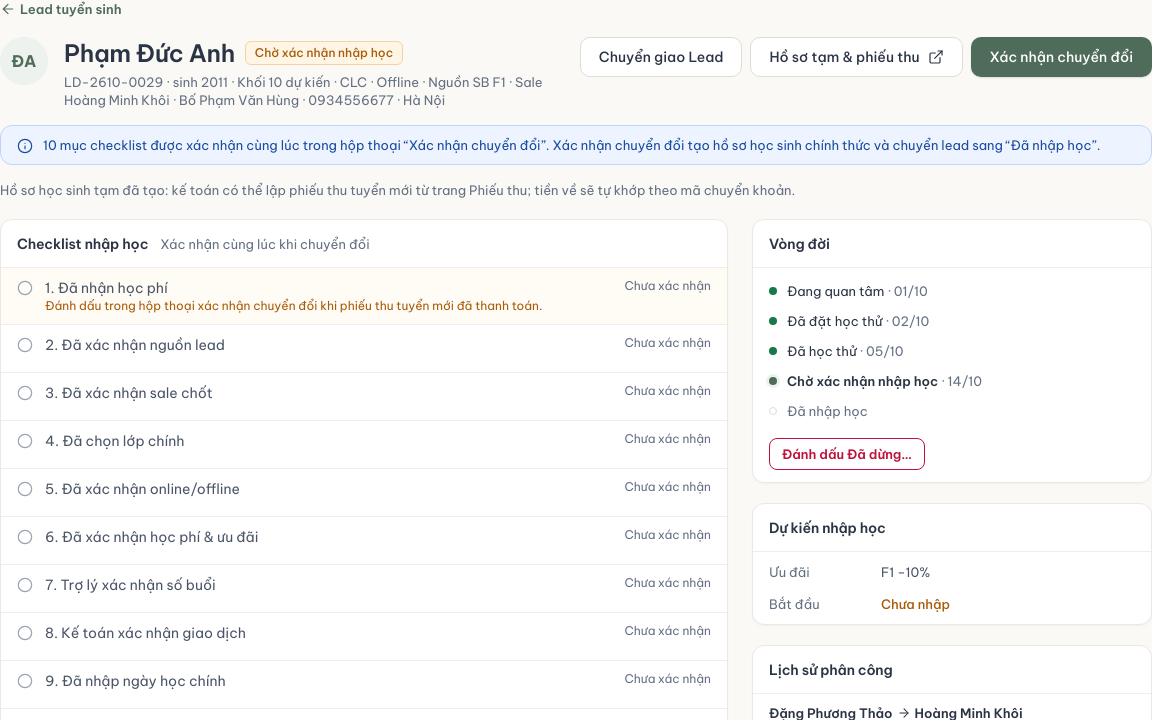
Test: CRM lead page › draws the lifecycle with the current step and puts the stop action under it as danger-outline
The width and height of the screenshot is (1152, 720).
Expected: the list item "Chờ xác nhận nhập học · 14/10" is shown, [769,372,1075,389]
Expected: the text "Đã đặt học thử" is shown, [787,313,882,329]
Click the button "Đánh dấu Đã dừng…" at coordinates (847, 454), box [769,438,925,470]
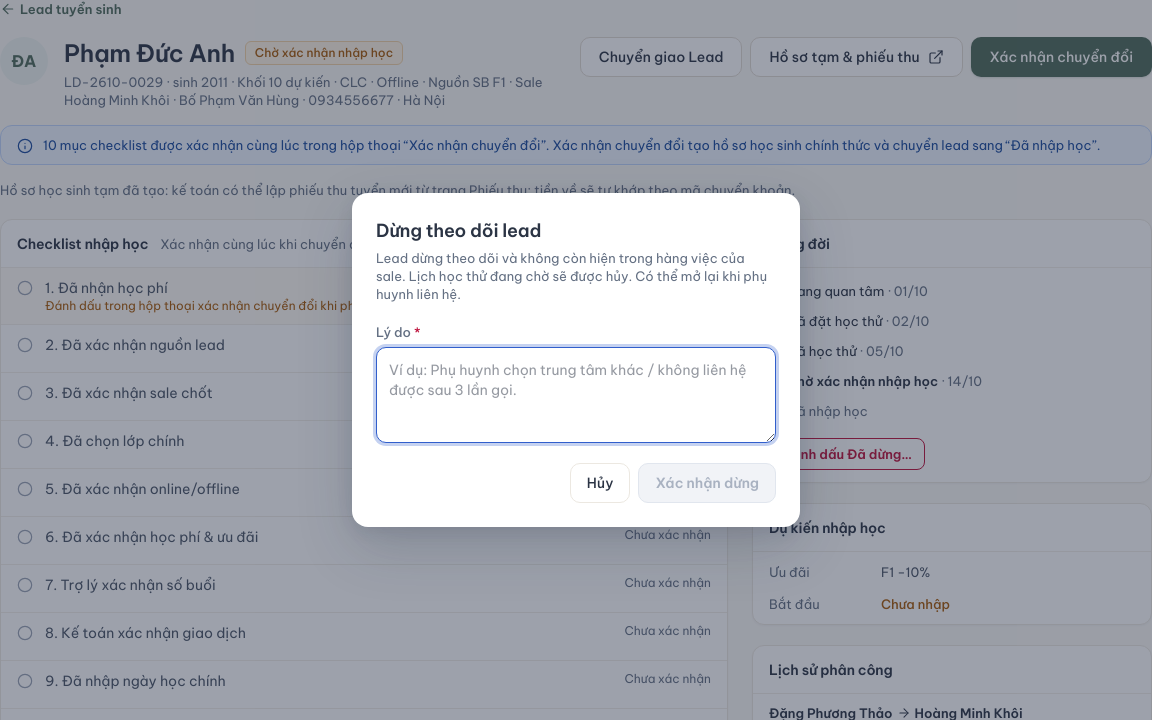
Expected: the dialog "Dừng theo dõi lead" is shown, [352,193,800,527]
